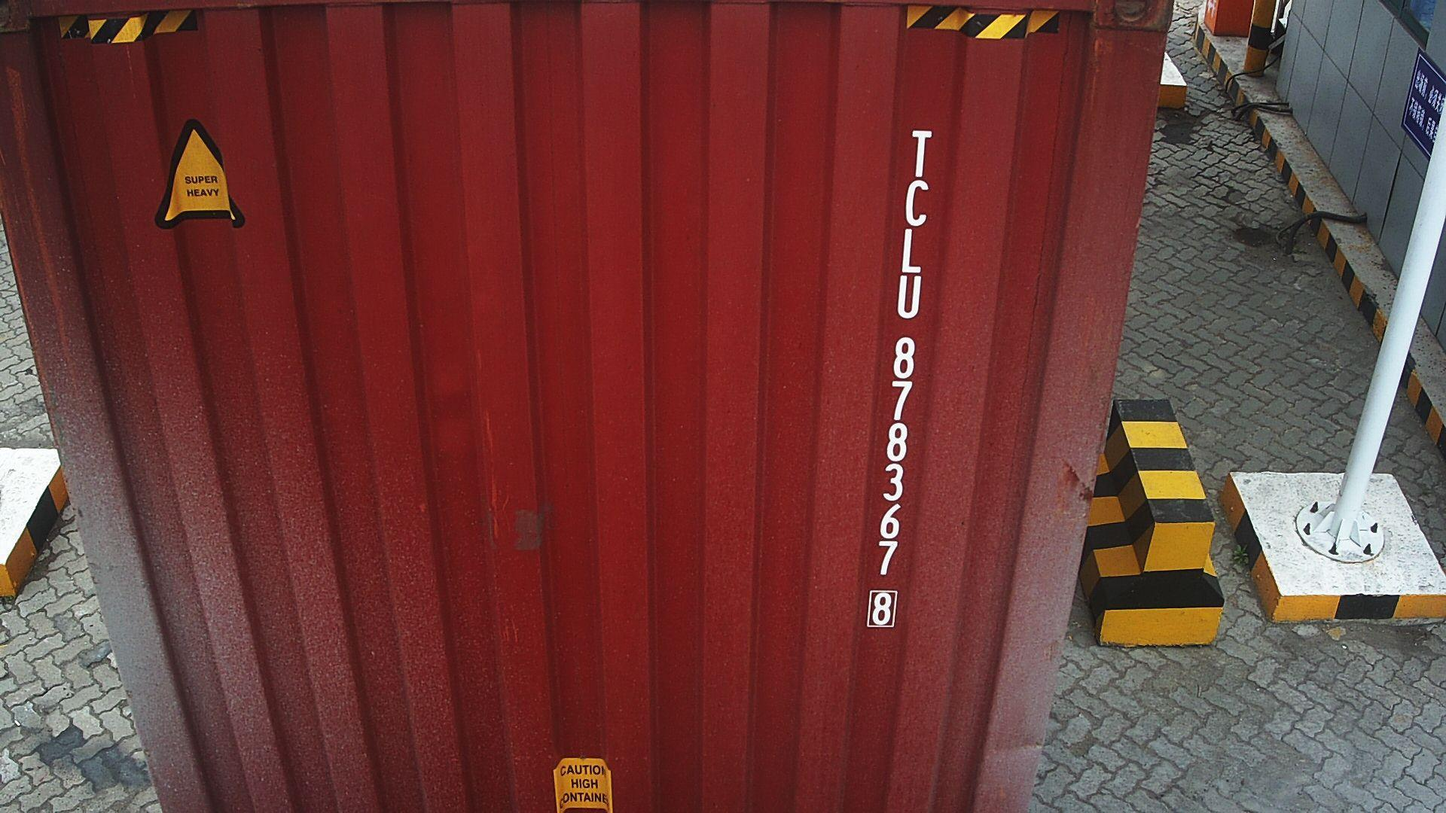container-numbers: (862, 126, 943, 637)
